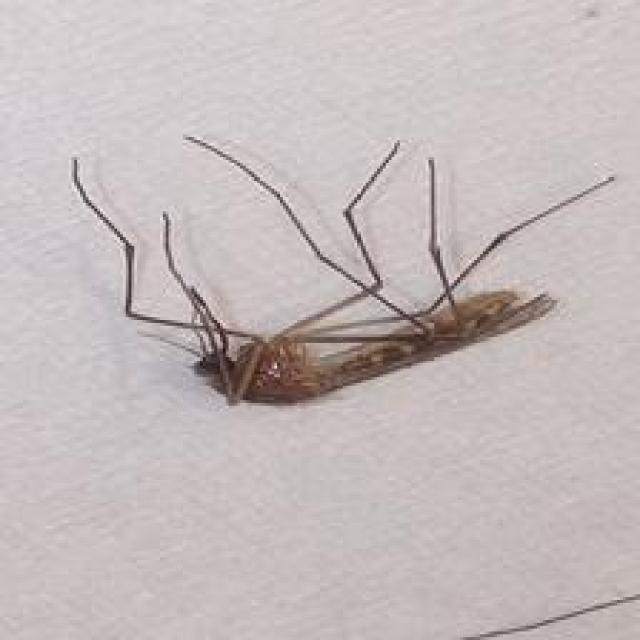Culex: (69, 130, 617, 407)
